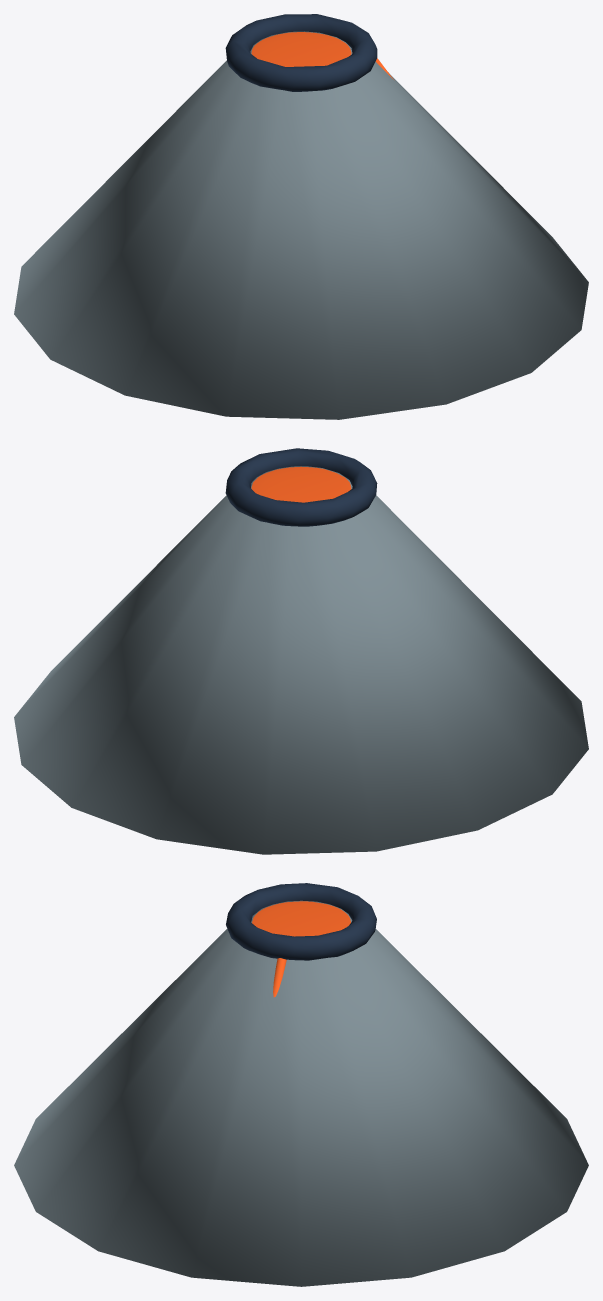
File: Volcano_LOD1.glb
The picture shows the model from 3 angles, top to bottom: view 1: azimuth 30°, elevation 25°; view 2: azimuth 150°, elevation 25°; view 3: azimuth 270°, elevation 25°; orthographic projection.
Visible parts, largest first — view 1: Volcanic cone, Crater rim, Lava pool; view 2: Volcanic cone, Crater rim, Lava pool; view 3: Volcanic cone, Crater rim, Lava pool.
Part boxes in pixels (x1,y1,x2,y2): Volcanic cone: [14, 31, 588, 419]; Crater rim: [225, 14, 377, 91]; Lava pool: [251, 32, 351, 66]; Volcanic cone: [14, 466, 588, 854]; Crater rim: [225, 448, 377, 526]; Lava pool: [251, 466, 351, 502]; Volcanic cone: [14, 900, 588, 1286]; Crater rim: [226, 883, 376, 960]; Lava pool: [252, 901, 350, 936].
Size of the model in its own units: 6 by 2.92 by 6.
